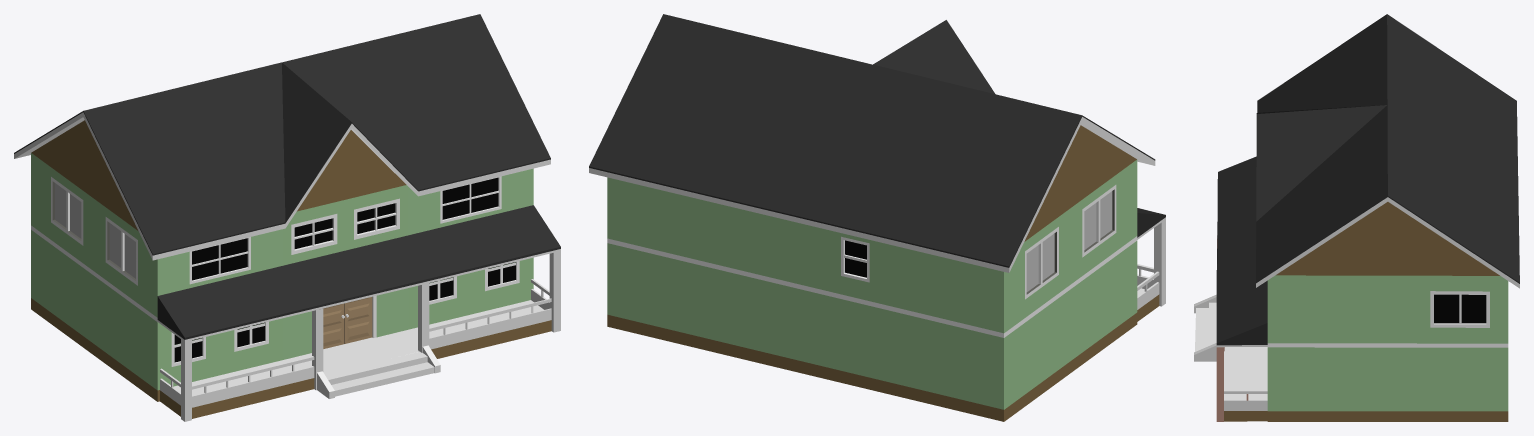
File: House-23.fbx
The picture shows the model from 3 angles, left to right: view 1: azimuth 30°, elevation 25°; view 2: azimuth 150°, elevation 25°; view 3: azimuth 270°, elevation 25°; orthographic projection. The views are drawn at different scales.
Parts seen in each view (by area): view 1: House; view 2: House; view 3: House.
Boxes of the visible parts, left/top/right/bottom form: House: left=14, top=14, right=560, bottom=421; House: left=589, top=14, right=1165, bottom=421; House: left=1194, top=14, right=1519, bottom=421.
Size of what is drawn, in the model's own units: 18.09 by 10.77 by 13.74.
